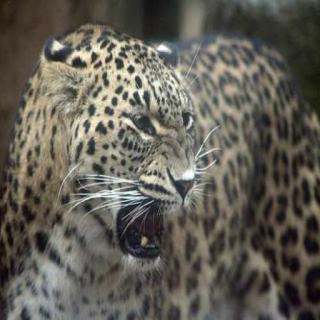Leopard: (17, 0, 284, 320)
